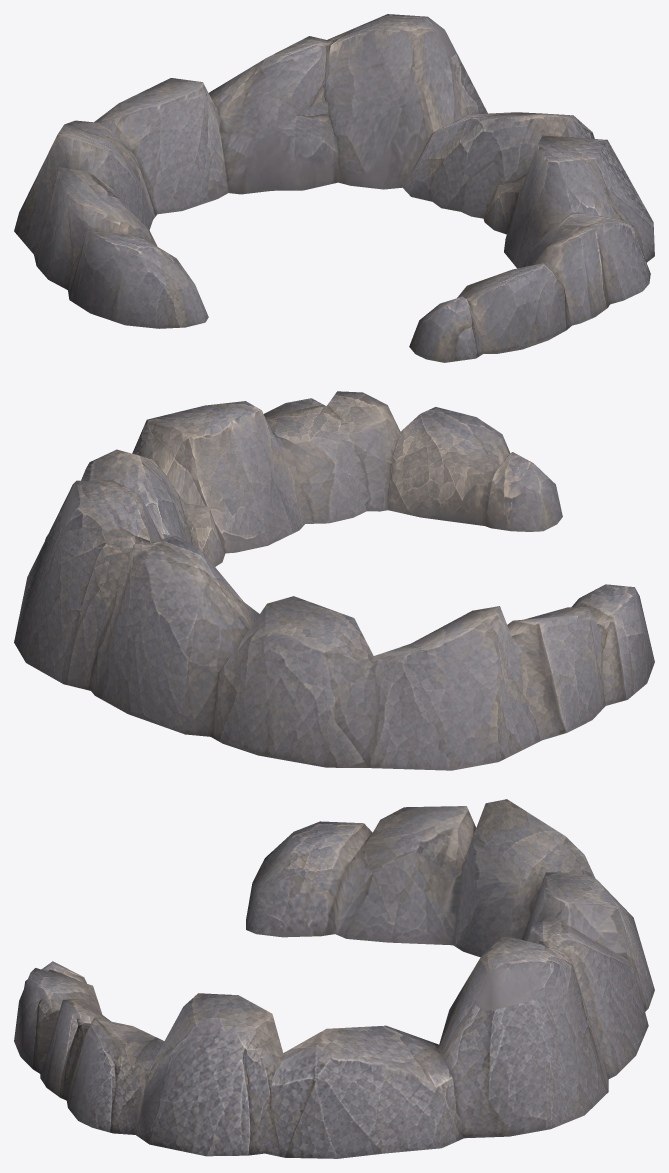
The model's file is stone_ring.glb.
3 renders of one model, top to bottom at view 1: azimuth 30°, elevation 25°; view 2: azimuth 150°, elevation 25°; view 3: azimuth 270°, elevation 25°, orthographic. The views are drawn at different scales.
Visible parts, largest first — view 1: tripo_node_cf5e5a40-10e4-4d55-a490-b40789ebe867; view 2: tripo_node_cf5e5a40-10e4-4d55-a490-b40789ebe867; view 3: tripo_node_cf5e5a40-10e4-4d55-a490-b40789ebe867.
Boxes of the visible parts, <box> form: tripo_node_cf5e5a40-10e4-4d55-a490-b40789ebe867: <box>14,14,654,362</box>; tripo_node_cf5e5a40-10e4-4d55-a490-b40789ebe867: <box>14,391,654,770</box>; tripo_node_cf5e5a40-10e4-4d55-a490-b40789ebe867: <box>14,799,654,1158</box>.
Bounding box in the file's own units: 0.998 × 0.252 × 0.998.
Materials: 1 (1 with a texture image).
